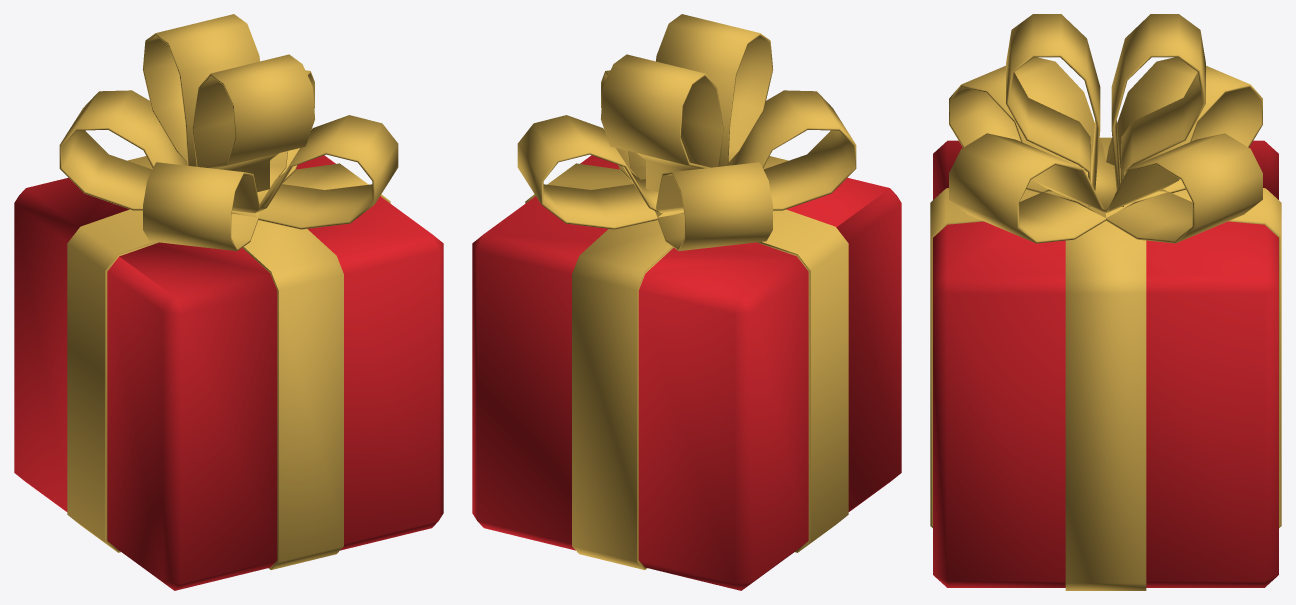
The model's file is Present x6.fbx.
The picture shows the model from 3 angles, left to right: view 1: azimuth 30°, elevation 25°; view 2: azimuth 150°, elevation 25°; view 3: azimuth 270°, elevation 25°; orthographic projection. The views are drawn at different scales.
Visible parts, largest first — view 1: Present x6; view 2: Present x6; view 3: Present x6.
Part boxes in pixels (x1,y1,x2,y2): Present x6: (14,14,443,590); Present x6: (472,14,901,590); Present x6: (930,14,1281,590).
Bounding box in the file's own units: 60.92 × 93.65 × 60.92.
